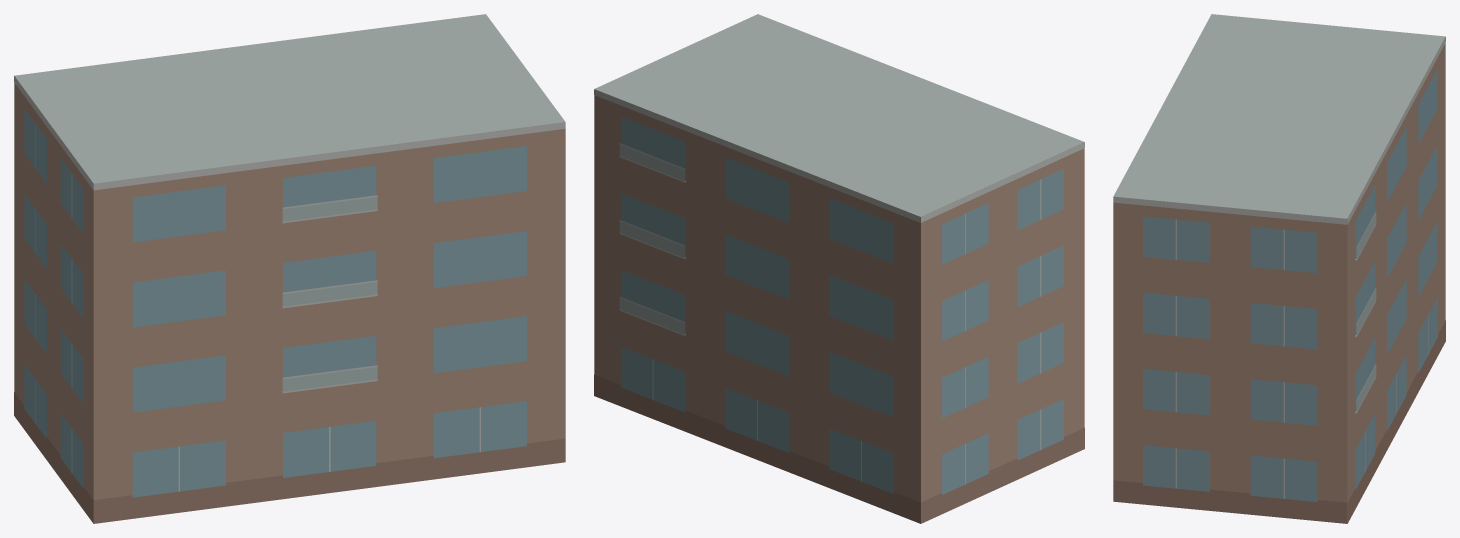
The model's file is survey-upis-32806027.glb.
3 renders of one model, left to right at view 1: azimuth 30°, elevation 25°; view 2: azimuth 150°, elevation 25°; view 3: azimuth 270°, elevation 25°, orthographic. The views are drawn at different scales.
Parts seen in each view (by area): view 1: survey-upis-32806027.tmp; view 2: survey-upis-32806027.tmp; view 3: survey-upis-32806027.tmp.
Boxes of the visible parts, x1=… form: survey-upis-32806027.tmp: x1=14, y1=14, x2=565, y2=523; survey-upis-32806027.tmp: x1=594, y1=14, x2=1084, y2=523; survey-upis-32806027.tmp: x1=1113, y1=14, x2=1445, y2=523.
Size of the model in its own units: 17.87 by 12.4 by 12.26.
